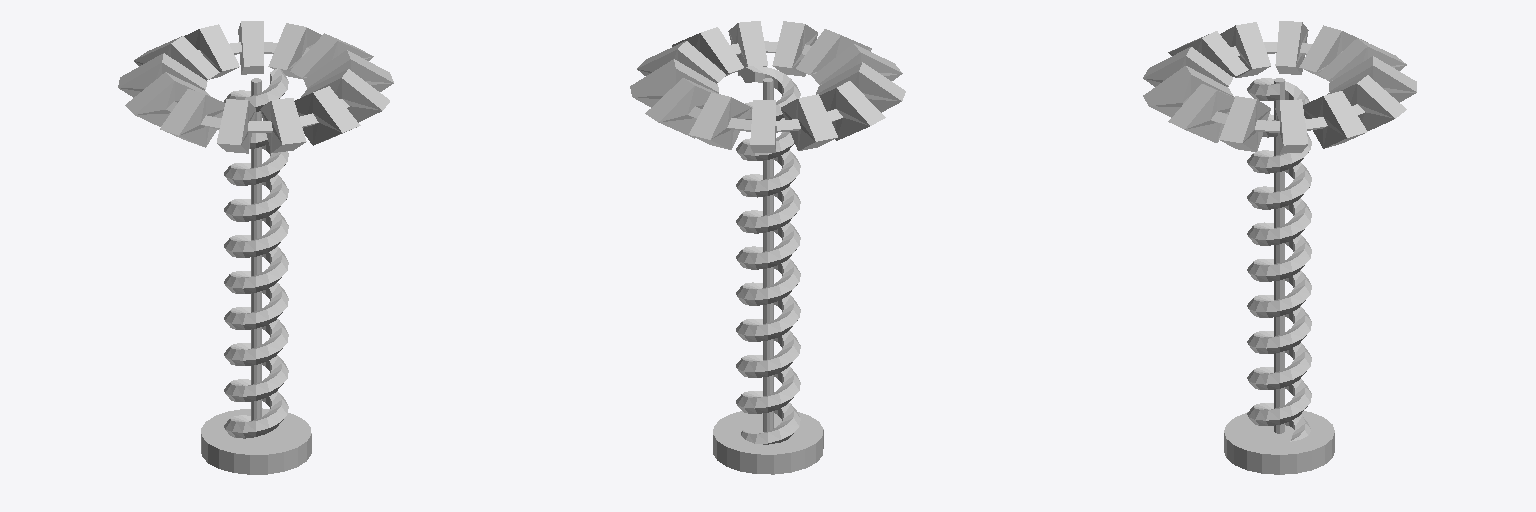
The model's file is tesla coil.obj.
The picture shows the model from 3 angles: view 1: azimuth 30°, elevation 25°; view 2: azimuth 150°, elevation 25°; view 3: azimuth 270°, elevation 25°; orthographic projection.
Visible parts, largest first — view 1: polySurface1; view 2: polySurface1; view 3: polySurface1.
Part boxes in pixels (x1,y1,x2,y2): polySurface1: (118, 21, 393, 474); polySurface1: (630, 21, 905, 474); polySurface1: (1143, 21, 1416, 474).
Bounding box in the file's own units: 14.68 × 22.89 × 14.57.